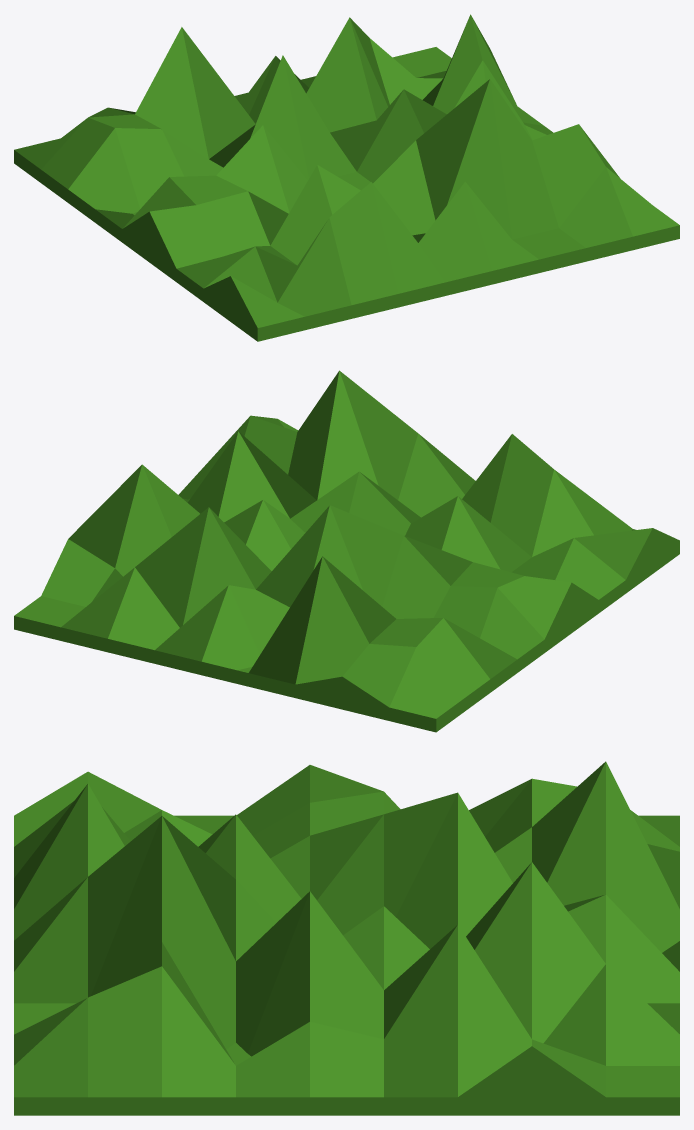
File: moutains_grass.fbx
The picture shows the model from 3 angles, top to bottom: view 1: azimuth 30°, elevation 25°; view 2: azimuth 150°, elevation 25°; view 3: azimuth 270°, elevation 25°; orthographic projection. The views are drawn at different scales.
Parts seen in each view (by area): view 1: Grid; view 2: Grid; view 3: Grid.
Part boxes in pixels (x1,y1,x2,y2): Grid: (14,14,679,341); Grid: (14,370,679,732); Grid: (14,761,679,1115).
Bounding box in the file's own units: 200 × 79.82 × 200.
